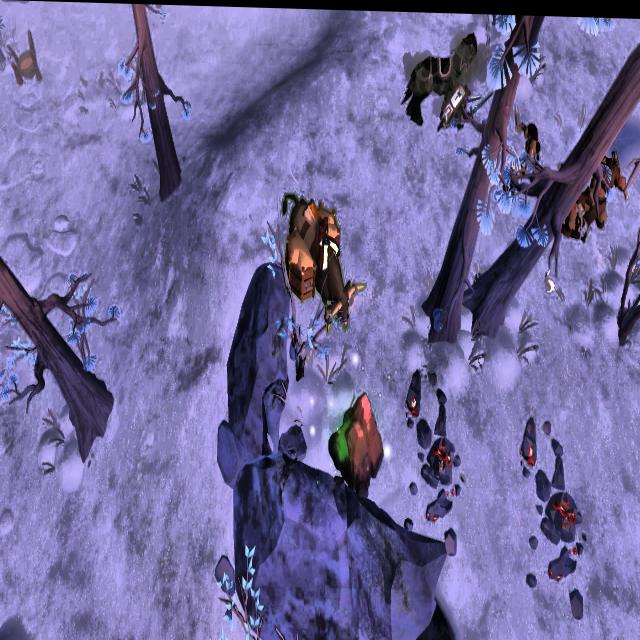rock_t5: (331, 394, 385, 490)
